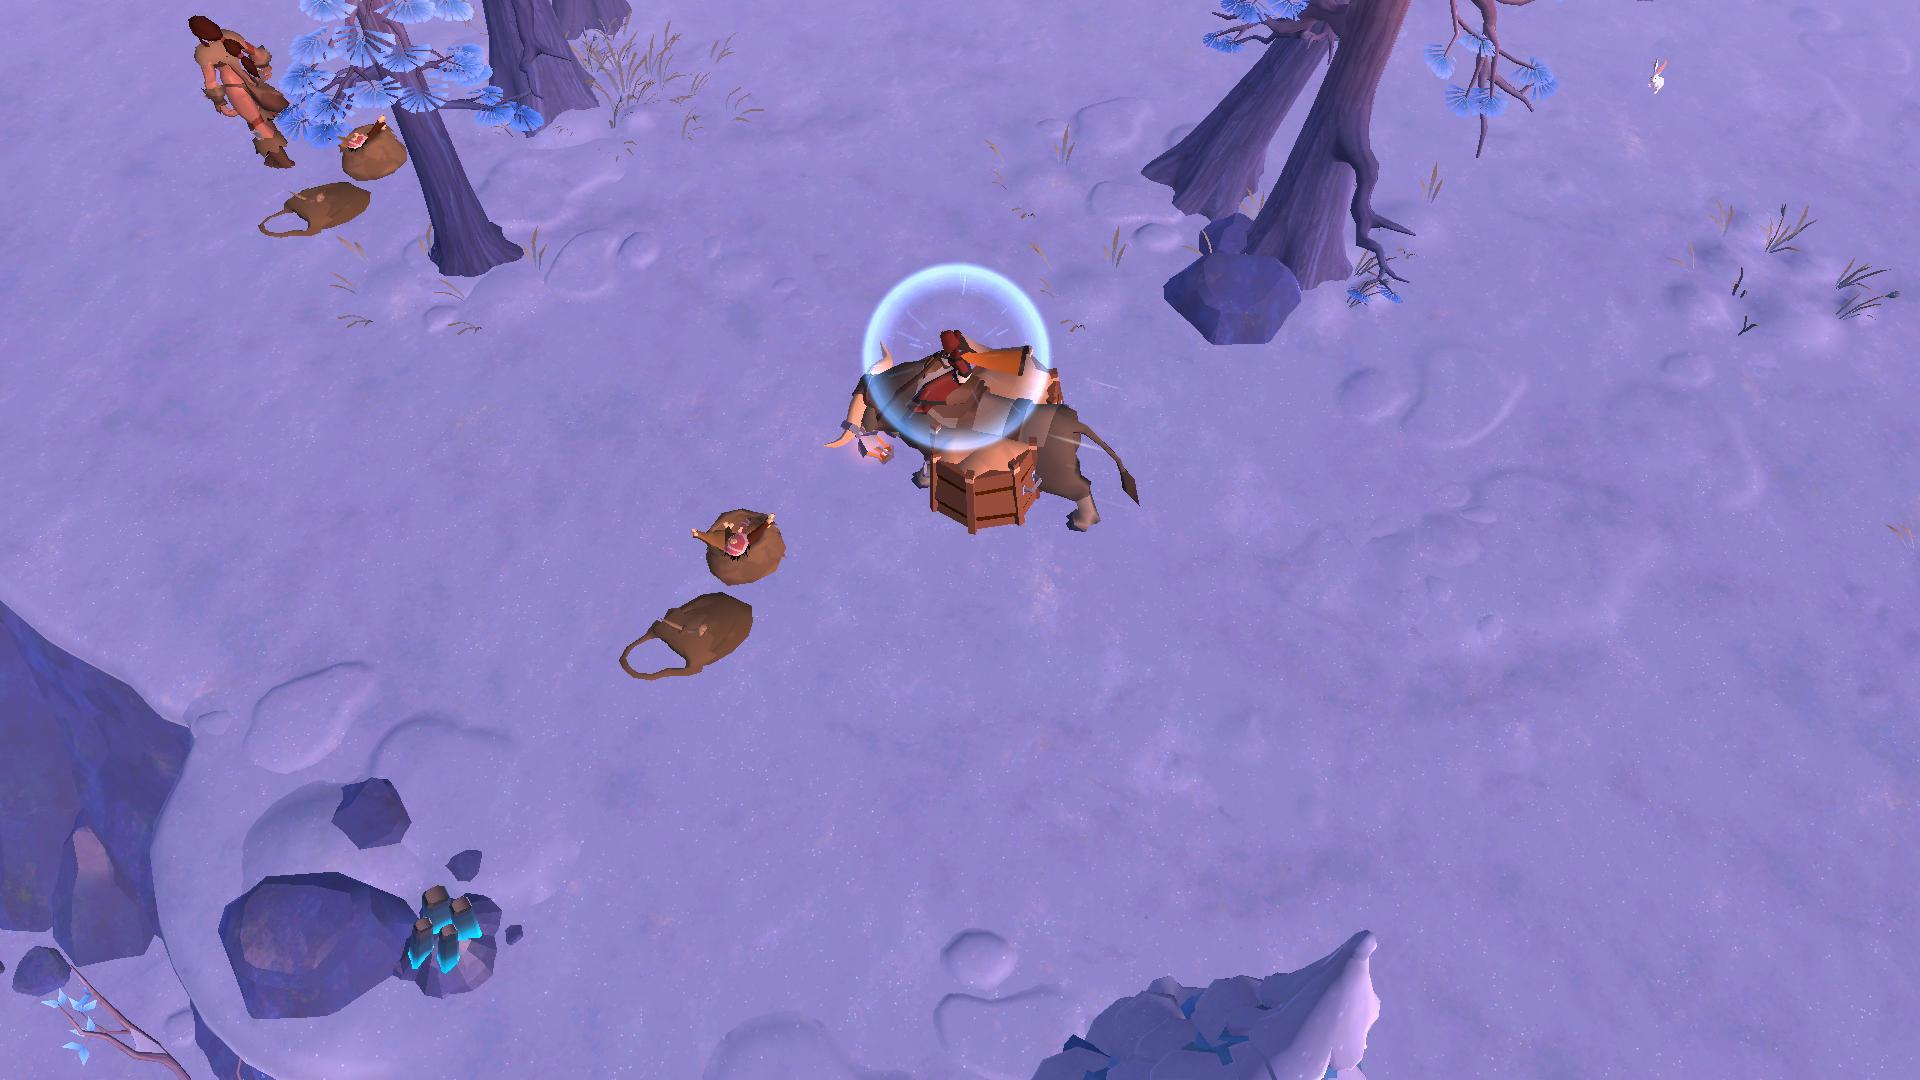enemy_factionKeeper: (179, 9, 302, 185)
ore_t4: (390, 876, 488, 976)
